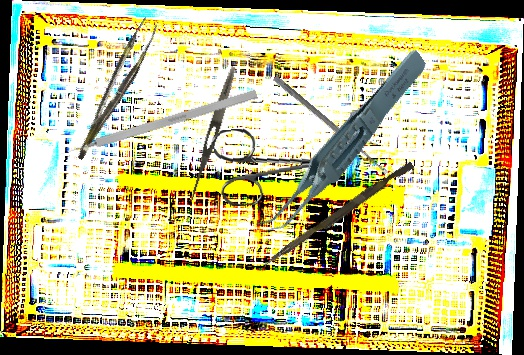Dressing Forceps: (185, 64, 240, 206)
Hook Surgical: (57, 88, 258, 160)
Iris Scissors: (211, 119, 358, 208)
Pusher: (262, 157, 415, 273)
Surgical Spoon: (272, 75, 390, 176)
Tissue Forceps: (224, 46, 457, 240), (60, 16, 167, 161)
